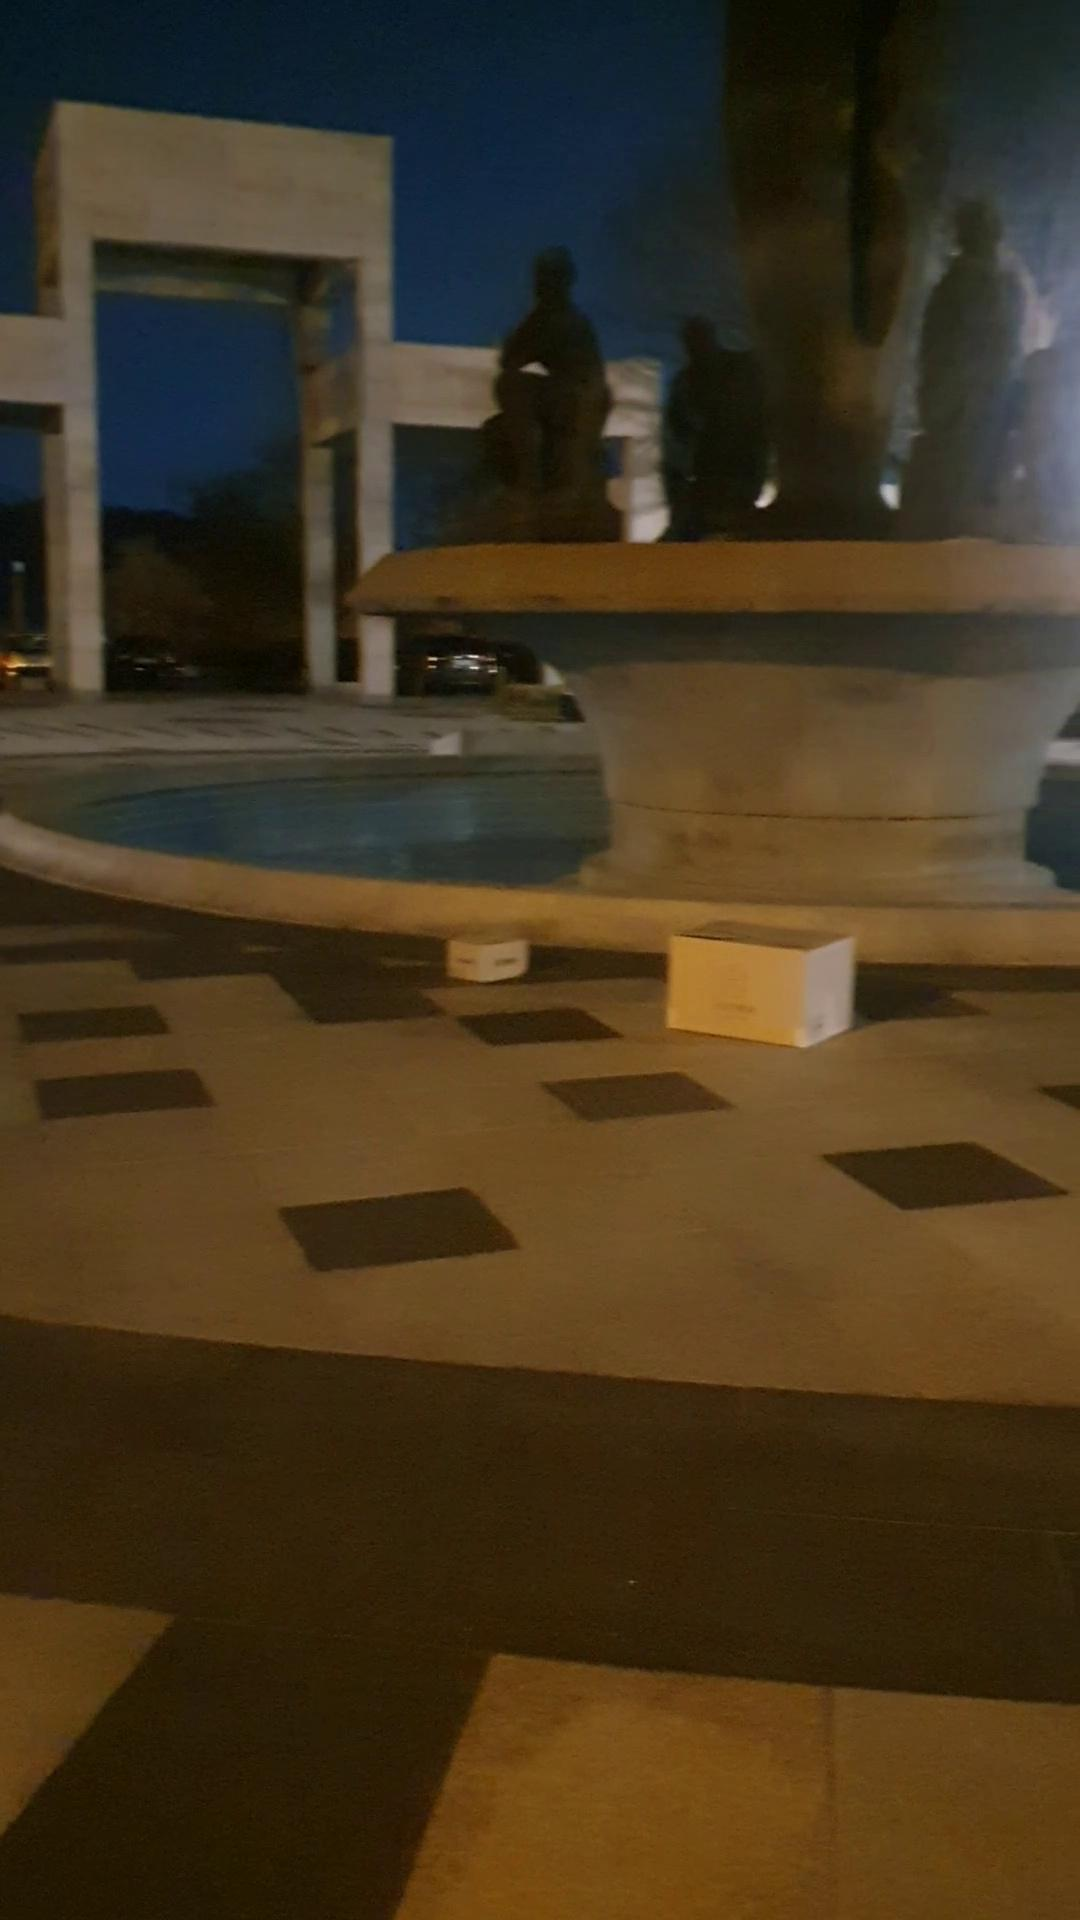Box: (658, 905, 855, 1050), (433, 913, 541, 998)
